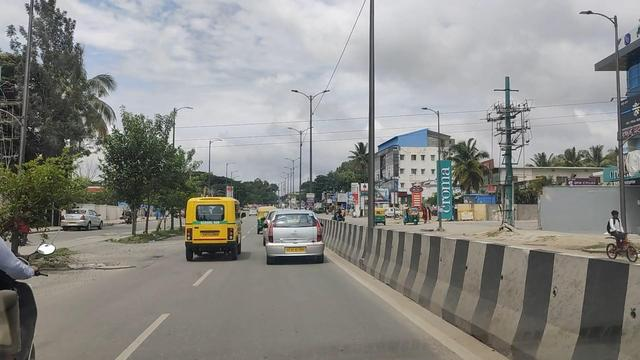LMV: (176, 197, 247, 261), (256, 206, 327, 269)
RoadDamages: (58, 247, 157, 282)
